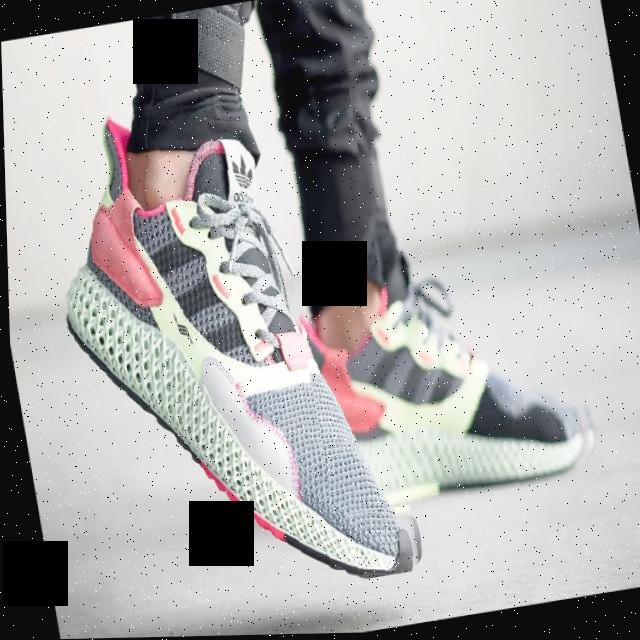shoe: (31, 75, 428, 621), (291, 233, 606, 520)
